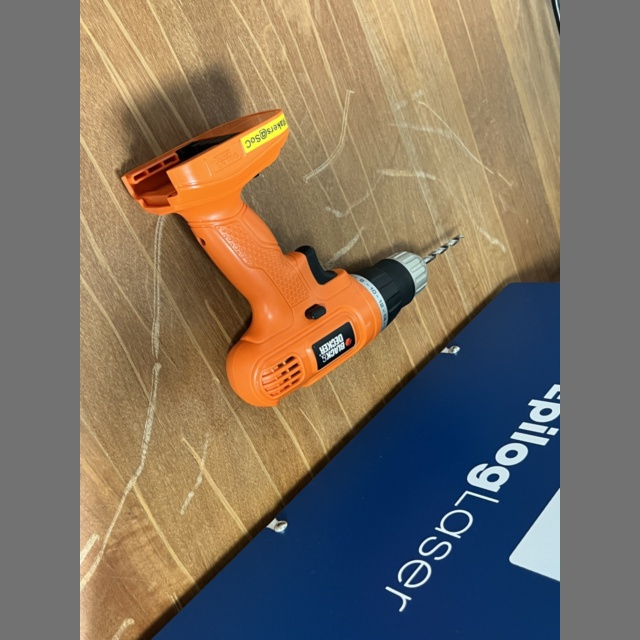drill: (122, 110, 457, 406)
